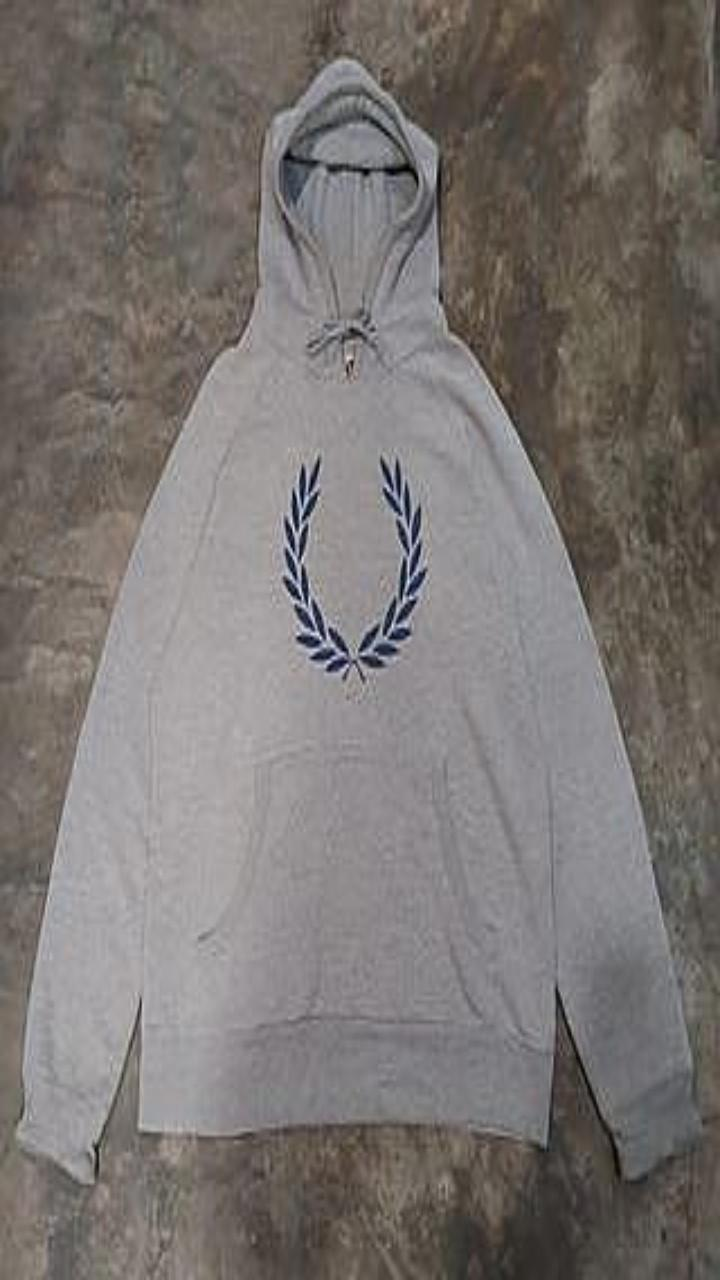Hoodie: (16, 56, 700, 1182)
